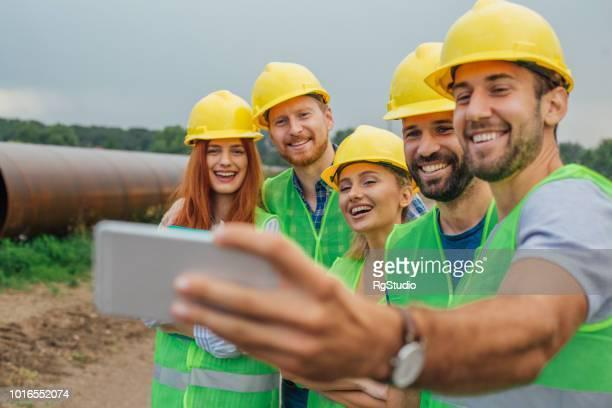helmet: (423, 0, 576, 90), (321, 124, 407, 189), (253, 61, 329, 125), (184, 90, 264, 144)
